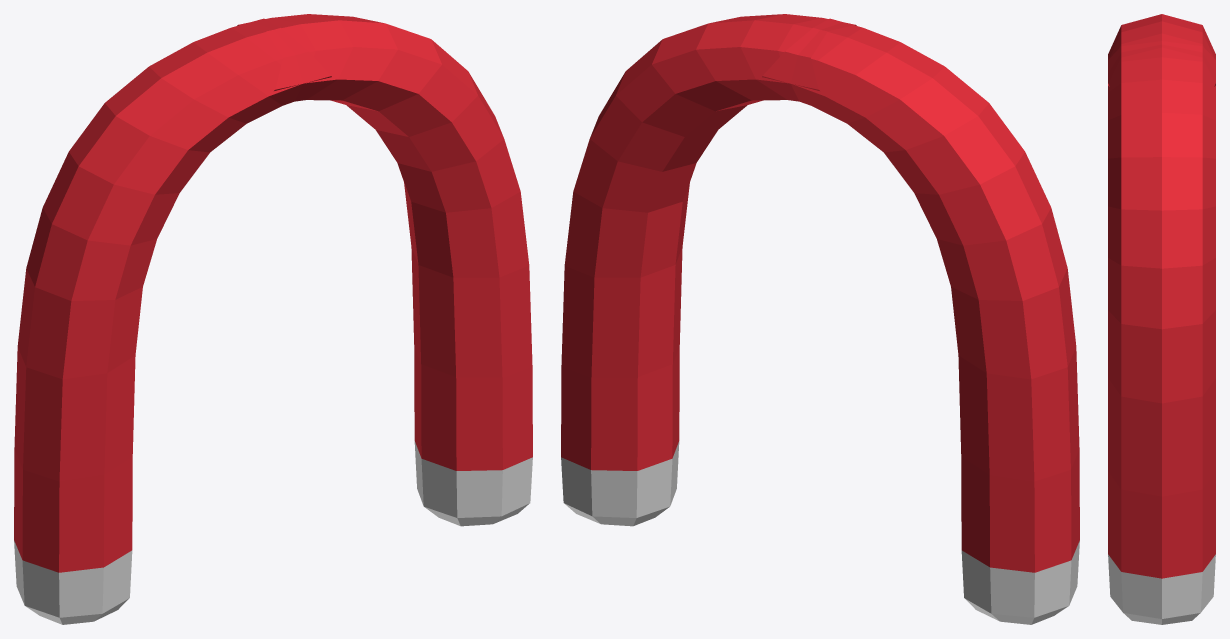
The model's file is magnet.glb.
The picture shows the model from 3 angles, left to right: view 1: azimuth 30°, elevation 25°; view 2: azimuth 150°, elevation 25°; view 3: azimuth 270°, elevation 25°; orthographic projection. The views are drawn at different scales.
Parts seen in each view (by area): view 1: Cercle; view 2: Cercle; view 3: Cercle.
Boxes of the visible parts, x1,y1,x2,y2 form: Cercle: (14,14,532,624); Cercle: (561,14,1079,624); Cercle: (1108,14,1215,624).
Size of the model in its own units: 1.69 by 1.71 by 0.348.
